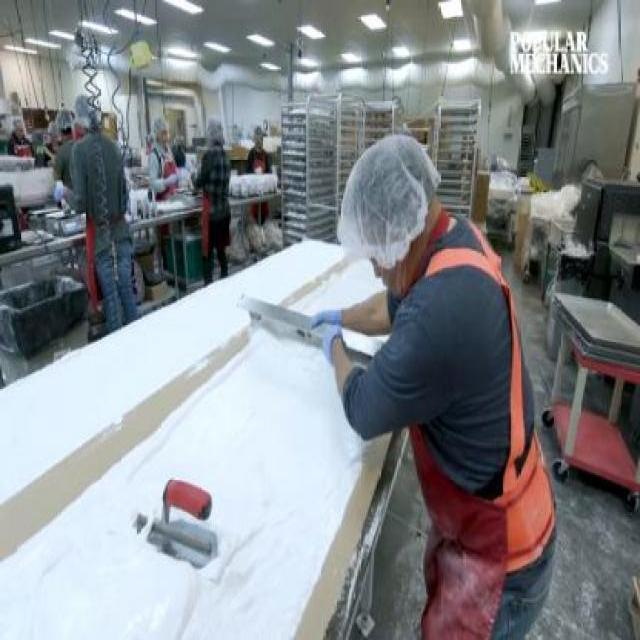gloved_hand: (312, 327, 349, 357), (313, 301, 345, 332)
